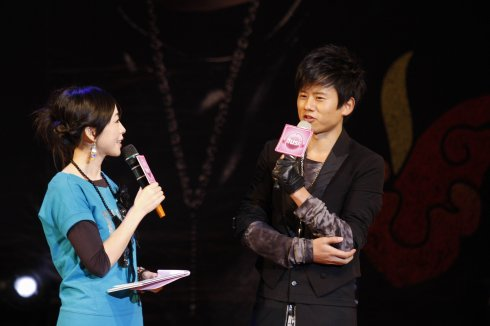face: (294, 82, 341, 130), (87, 106, 126, 155)
